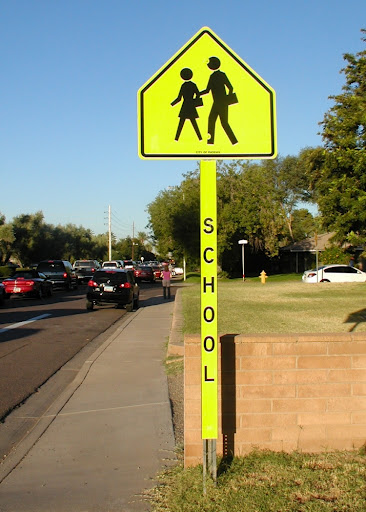slow: (134, 23, 280, 162)
